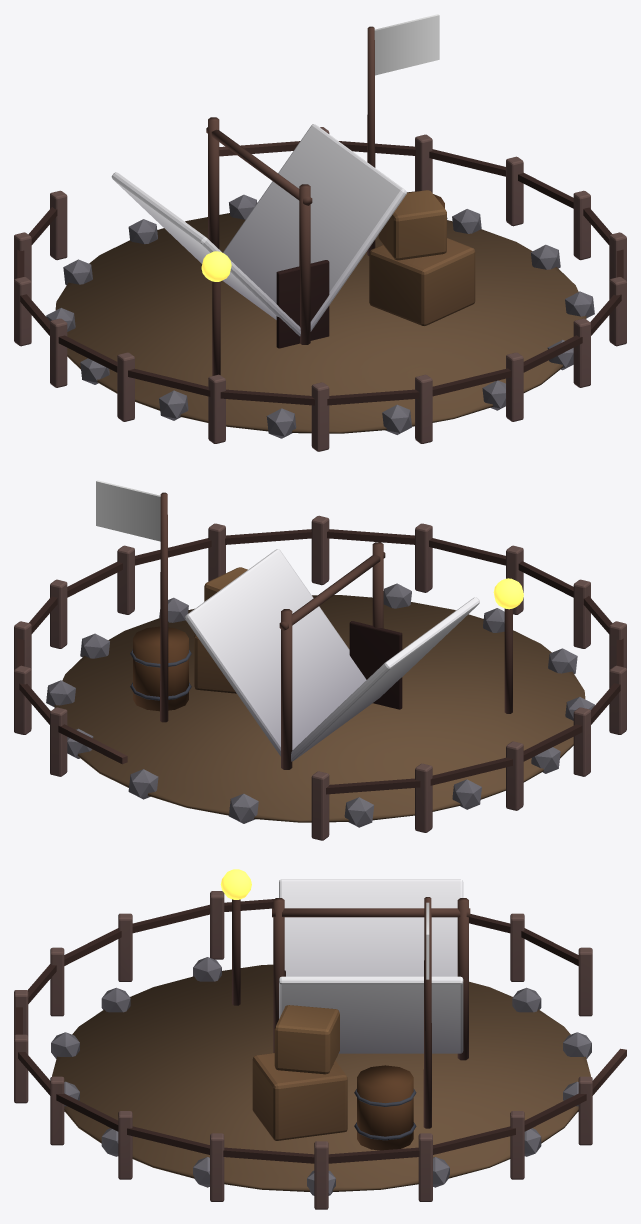
File: camp_2.glb
The picture shows the model from 3 angles, top to bottom: view 1: azimuth 30°, elevation 25°; view 2: azimuth 150°, elevation 25°; view 3: azimuth 270°, elevation 25°; orthographic projection.
Visible parts, largest first — view 1: camp_2, team, flag, lantern; view 2: camp_2, team, flag, lantern; view 3: camp_2, team, lantern.
Part boxes in pixels (x1,y1,x2,y2): camp_2: [14, 26, 626, 451]; team: [111, 124, 406, 336]; flag: [374, 14, 439, 75]; lantern: [201, 251, 231, 281]; camp_2: [14, 492, 626, 840]; team: [184, 549, 479, 761]; flag: [96, 480, 160, 541]; lantern: [493, 578, 523, 609]; camp_2: [14, 891, 626, 1209]; team: [279, 879, 463, 1053]; lantern: [220, 869, 251, 899].
Bounding box in the file's own units: 4.4 × 1.87 × 4.32.
